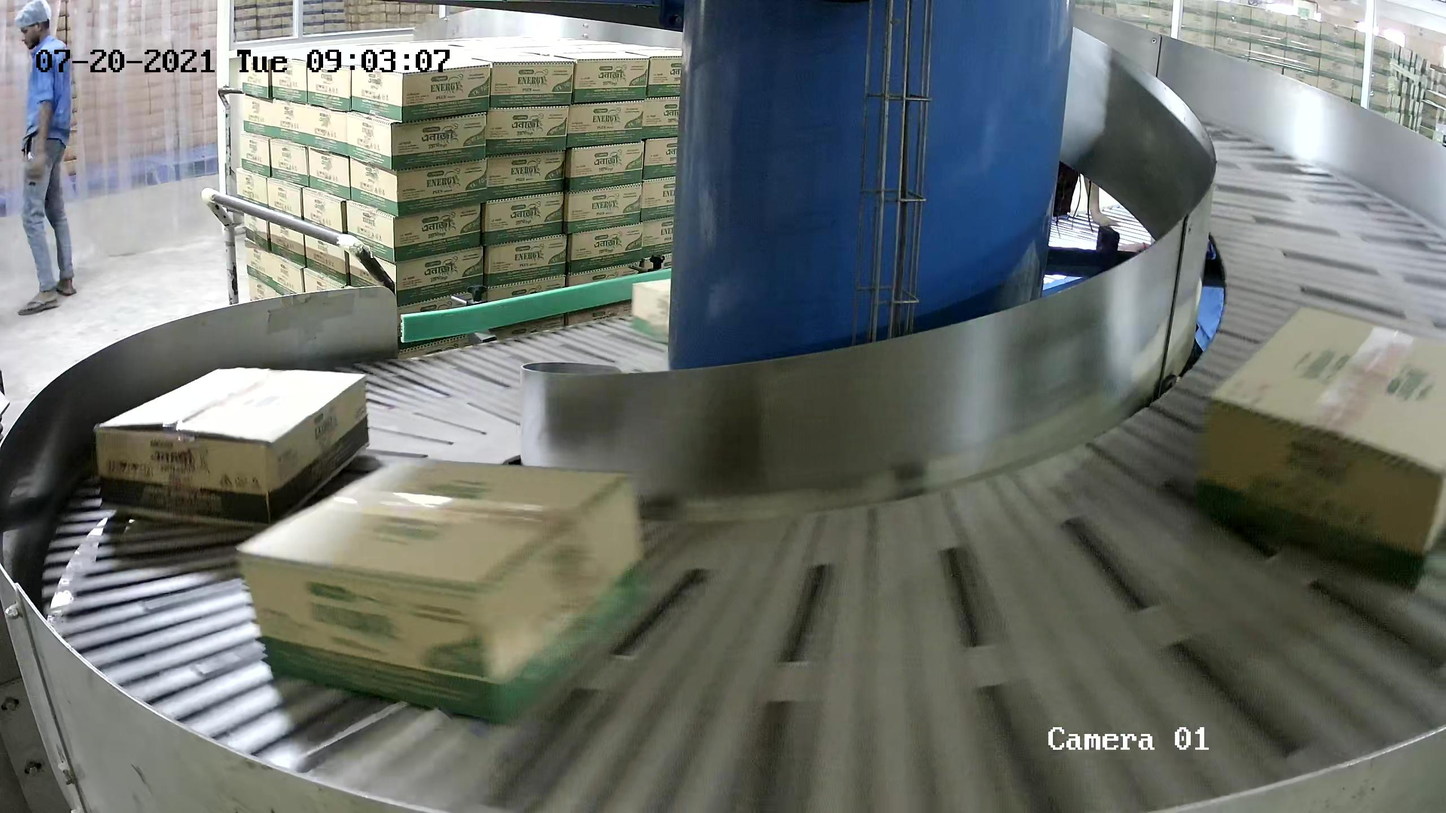Box: (233, 453, 654, 728), (1189, 302, 1446, 600), (91, 366, 370, 532), (630, 252, 782, 356)
